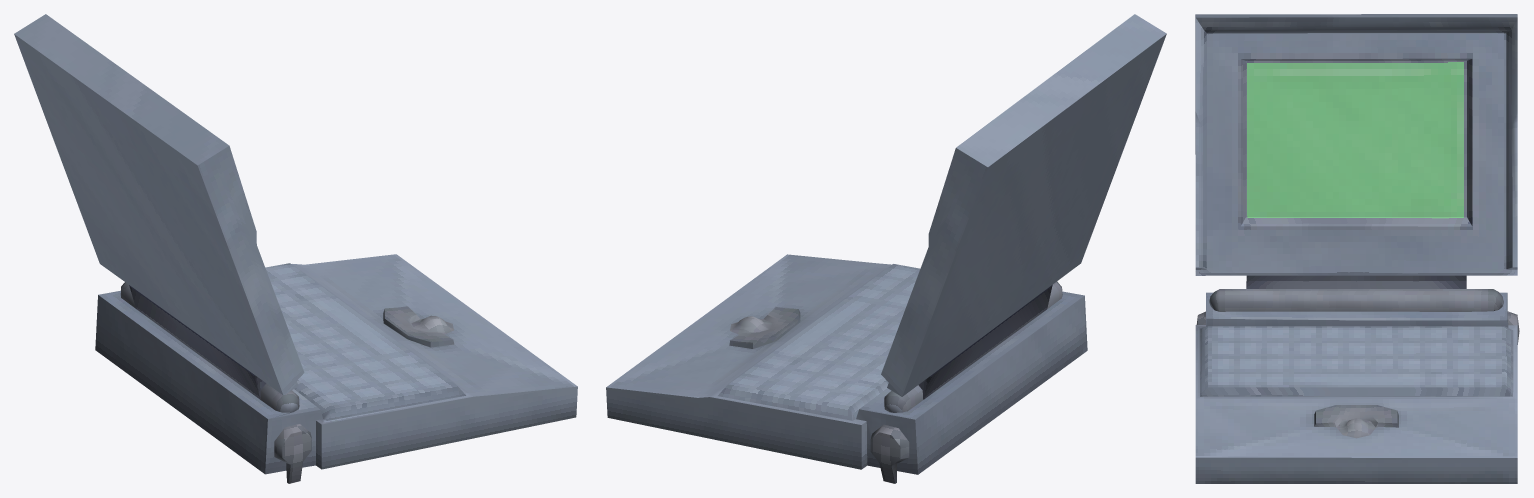
Rendered from Apple_Powerbook_100.glb.
The picture shows the model from 3 angles, left to right: view 1: azimuth 30°, elevation 25°; view 2: azimuth 150°, elevation 25°; view 3: azimuth 270°, elevation 25°; orthographic projection. The views are drawn at different scales.
Parts seen in each view (by area): view 1: M_Laptop; view 2: M_Laptop; view 3: M_Laptop.
Boxes of the visible parts, bbox=[...] form: M_Laptop: bbox=[14, 14, 577, 483]; M_Laptop: bbox=[606, 14, 1166, 483]; M_Laptop: bbox=[1195, 14, 1519, 483].
Size of the model in its own units: 0.0335 by 0.0299 by 0.0277.
Materials: 1 (1 with a texture image).
